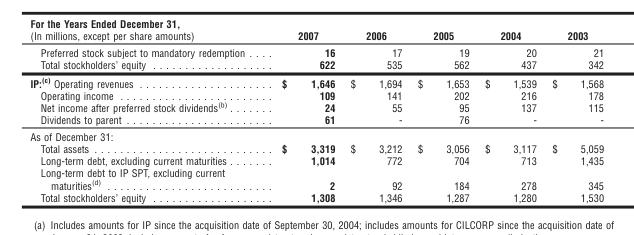table: (29, 29, 603, 203)
table column: (29, 29, 262, 203), (262, 29, 342, 203), (342, 29, 409, 203), (409, 29, 476, 203), (476, 29, 543, 203), (543, 29, 603, 203)
table column header: (29, 29, 603, 43)
table projected row header: (29, 127, 603, 141)
table row: (29, 166, 603, 190), (29, 72, 603, 88), (29, 57, 603, 72), (29, 29, 603, 43), (29, 43, 603, 57), (29, 113, 603, 127), (29, 127, 603, 141), (29, 100, 603, 113), (29, 141, 603, 154), (29, 190, 603, 203), (29, 88, 603, 100), (29, 154, 603, 166)
